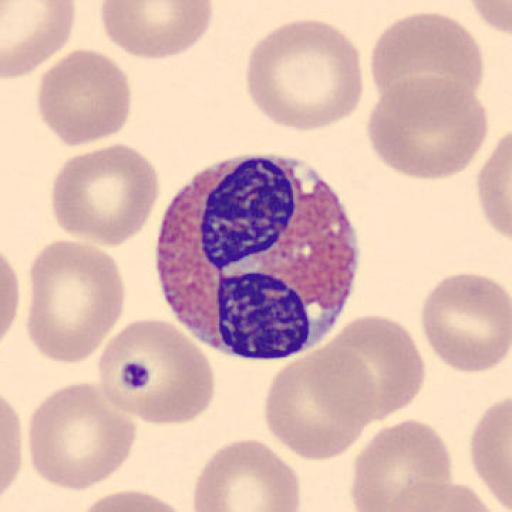Platelet: (117, 357, 153, 393)
RBC: (246, 17, 364, 133), (365, 73, 490, 181), (264, 343, 378, 461), (97, 316, 216, 426), (26, 236, 126, 366), (26, 380, 139, 493), (50, 141, 160, 248), (370, 10, 485, 110), (326, 313, 426, 422), (349, 417, 453, 511), (36, 48, 133, 148), (420, 272, 510, 374), (192, 437, 302, 512), (100, 0, 214, 62), (1, 0, 77, 80), (469, 395, 512, 512), (476, 130, 512, 244), (388, 478, 506, 512), (74, 489, 192, 512), (0, 394, 23, 502), (0, 251, 20, 348), (469, 0, 512, 37)
WBC: (154, 155, 362, 360)
